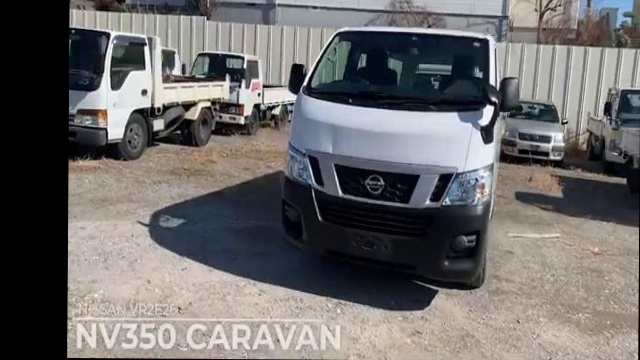van: (284, 24, 500, 291)
